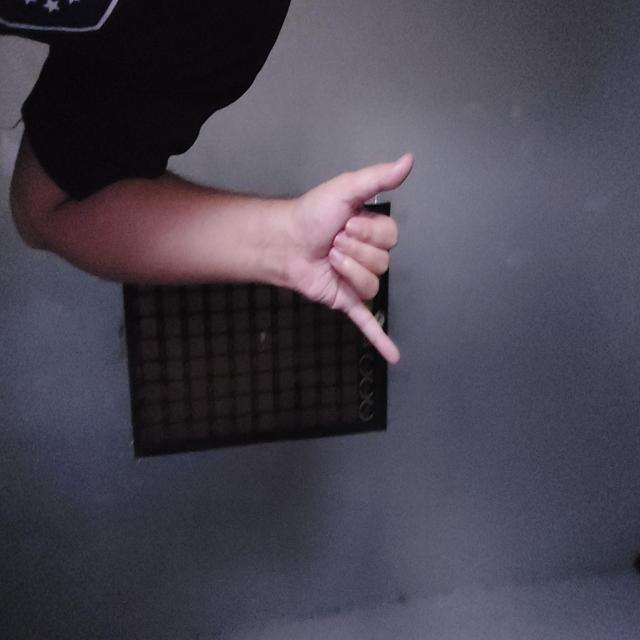Y: (272, 132, 440, 393)
